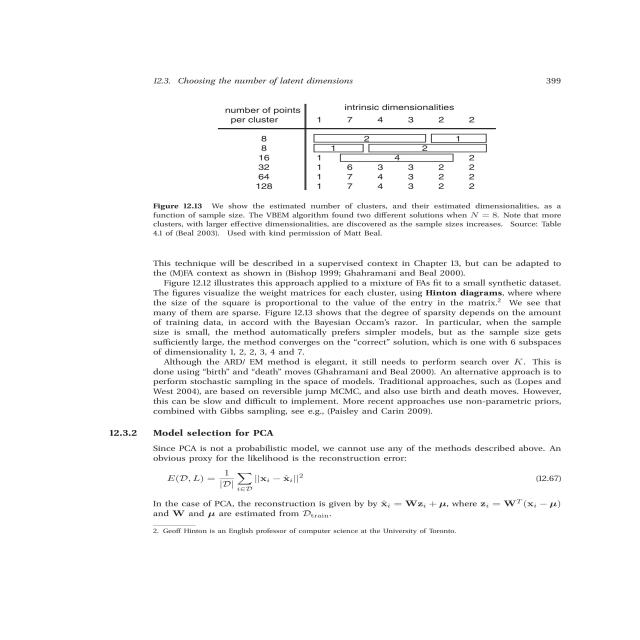diagram: (132, 87, 625, 240)
